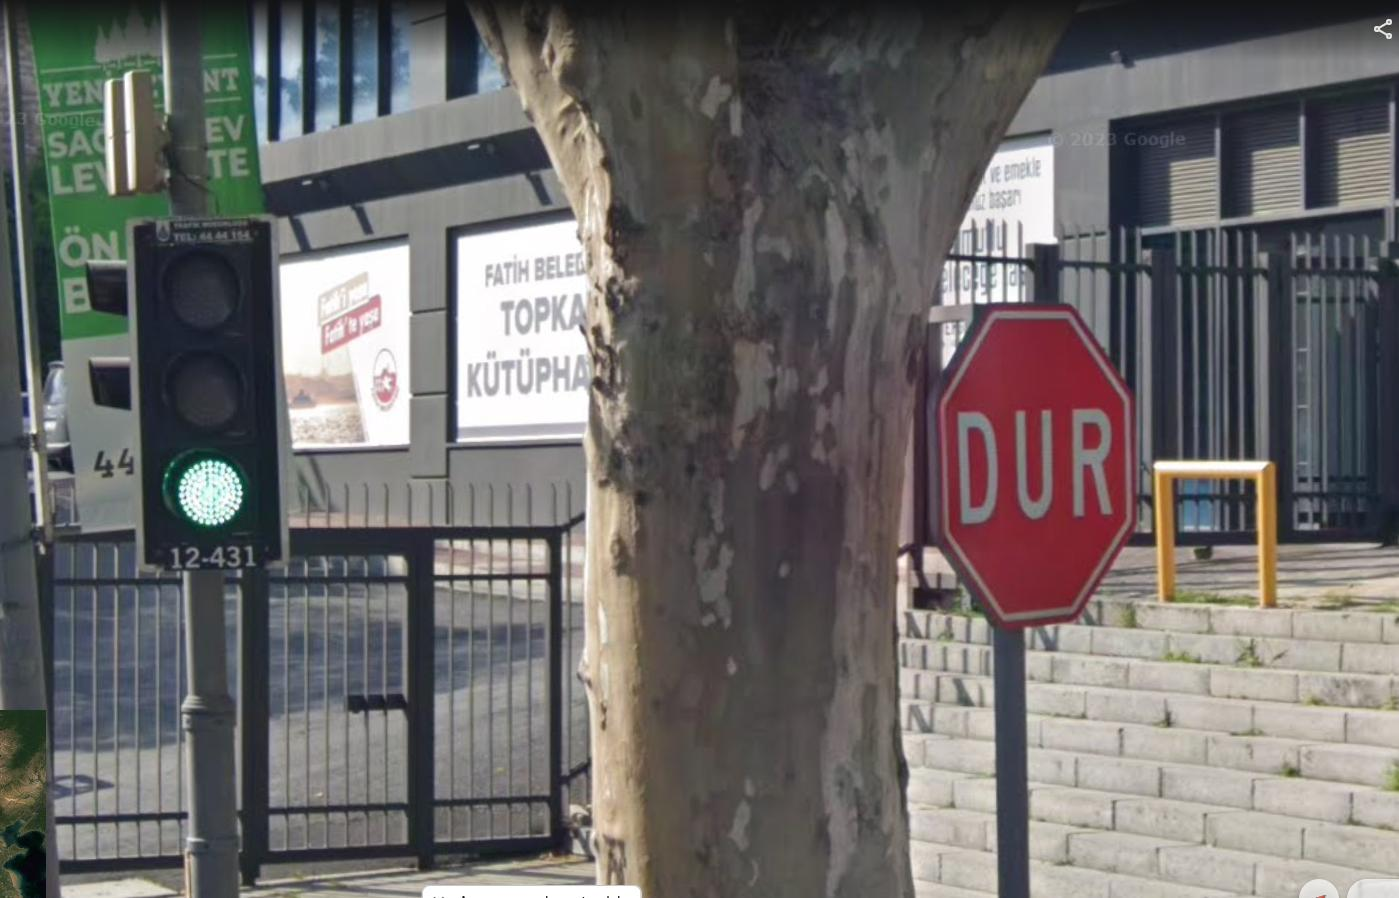greenlight: (132, 220, 265, 574)
stop: (925, 309, 1137, 621)
